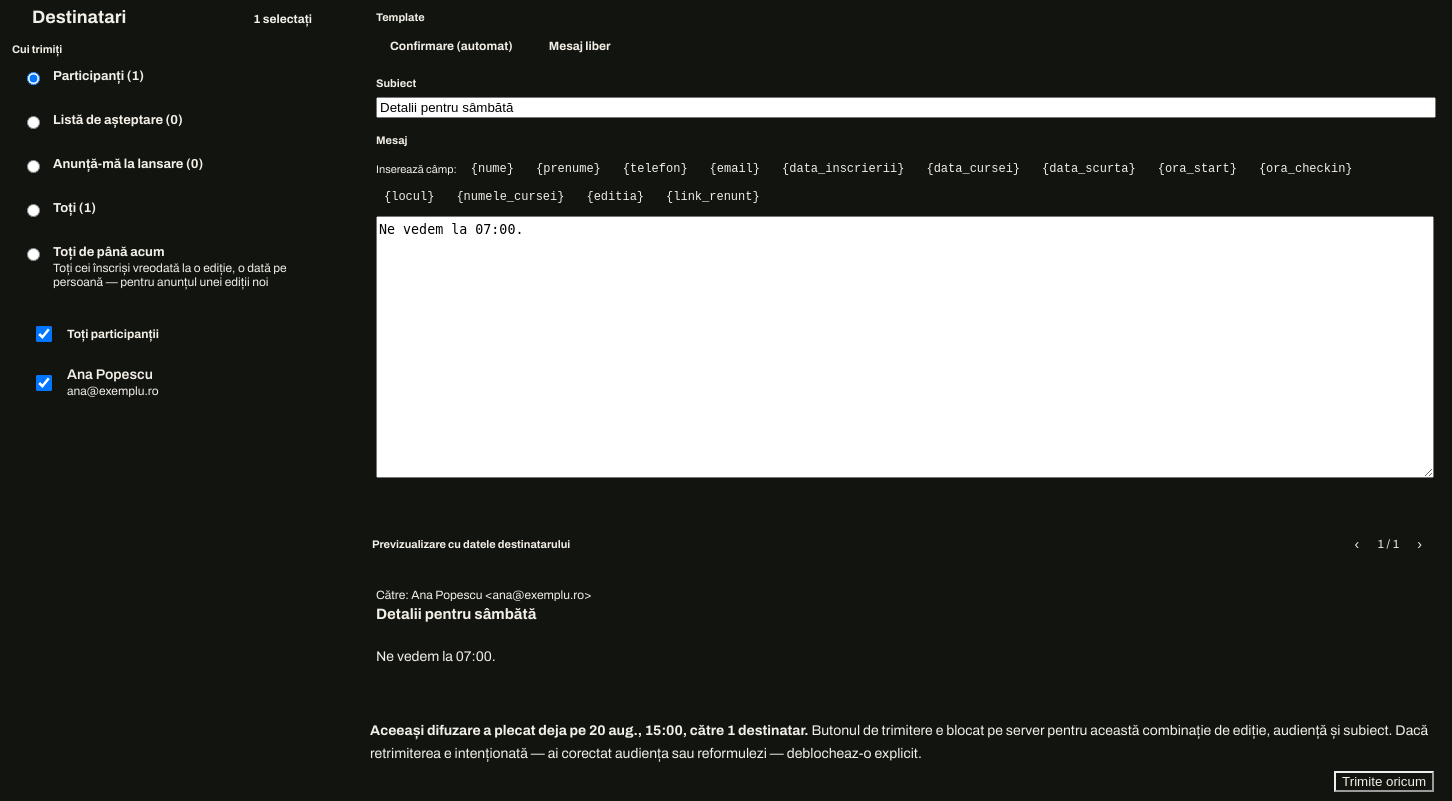
Test case: AdminEmailTab — zăvor pe trimitere › o difuzare deja plecată blochează butonul și cere deblocare explicită
The image size is (1452, 801).
Click the button "Trimite oricum" at (1384, 781), box [1334, 771, 1434, 792]
(page scrolled)
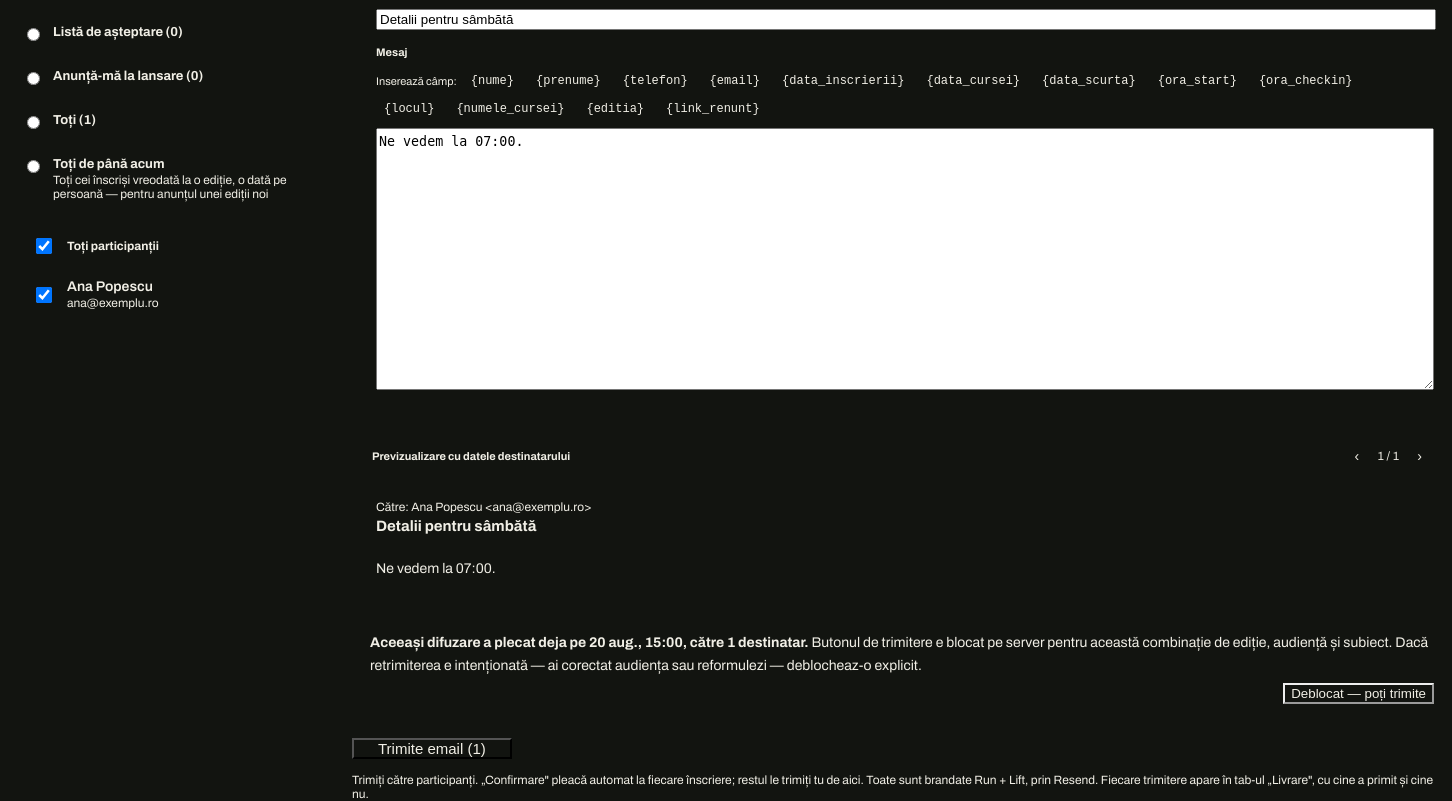
expect the button "Trimite email (1)" is enabled: met, box [352, 738, 512, 759]
